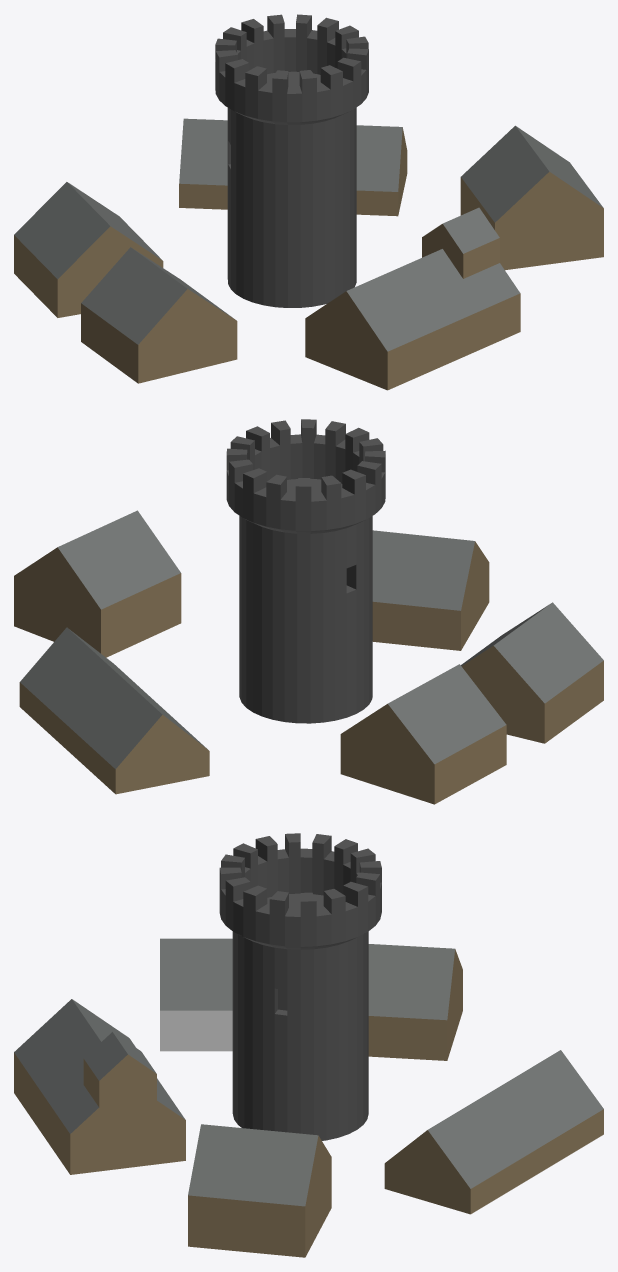
The model's file is city.glb.
3 views of the same model, one above another, from view 1: azimuth 30°, elevation 25°; view 2: azimuth 150°, elevation 25°; view 3: azimuth 270°, elevation 25° (orthographic). The views are drawn at different scales.
Visible parts, largest first — view 1: Cylinder.001; view 2: Cylinder.001; view 3: Cylinder.001.
Part boxes in pixels (x1=…): Cylinder.001: x1=14, y1=14, x2=603, y2=390; Cylinder.001: x1=14, y1=419, x2=603, y2=804; Cylinder.001: x1=14, y1=833, x2=603, y2=1257.
Bounding box in the file's own units: 10.12 × 4.52 × 9.81.
